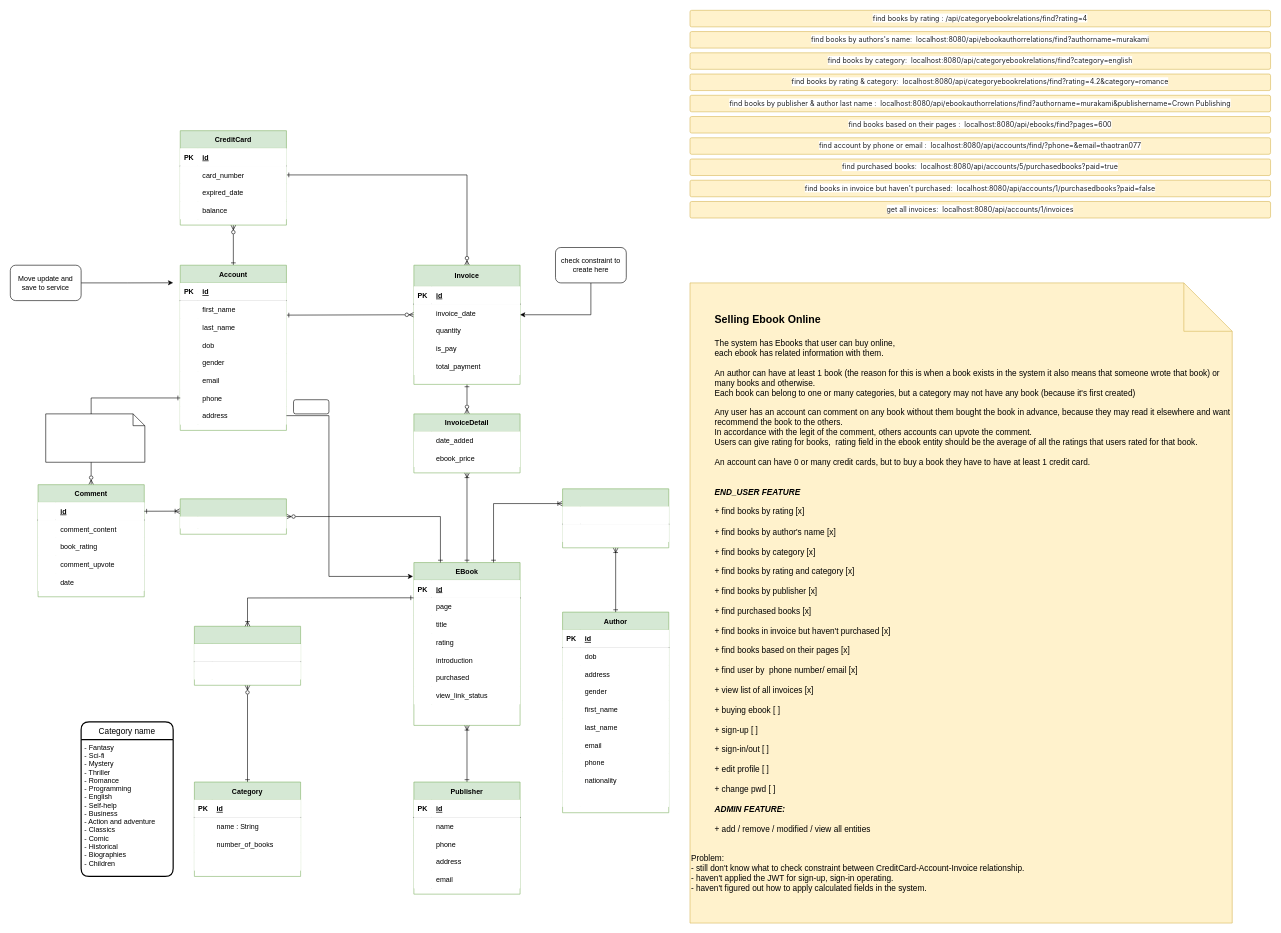
Some shapes in this 1281 by 933 pixel diagram are drawn without their labels. Here are the shapes that lost their labels. From the top down, the centre of each, then its label:
At point 311,406: "buying".
At point 95,437: "An account can comment on any book without them purchased that book".
At point 233,516: "CommentEbookRelation".
At point 615,518: "EbookAuthorRelation".
At point 247,655: "CategoryEbookRelation".
